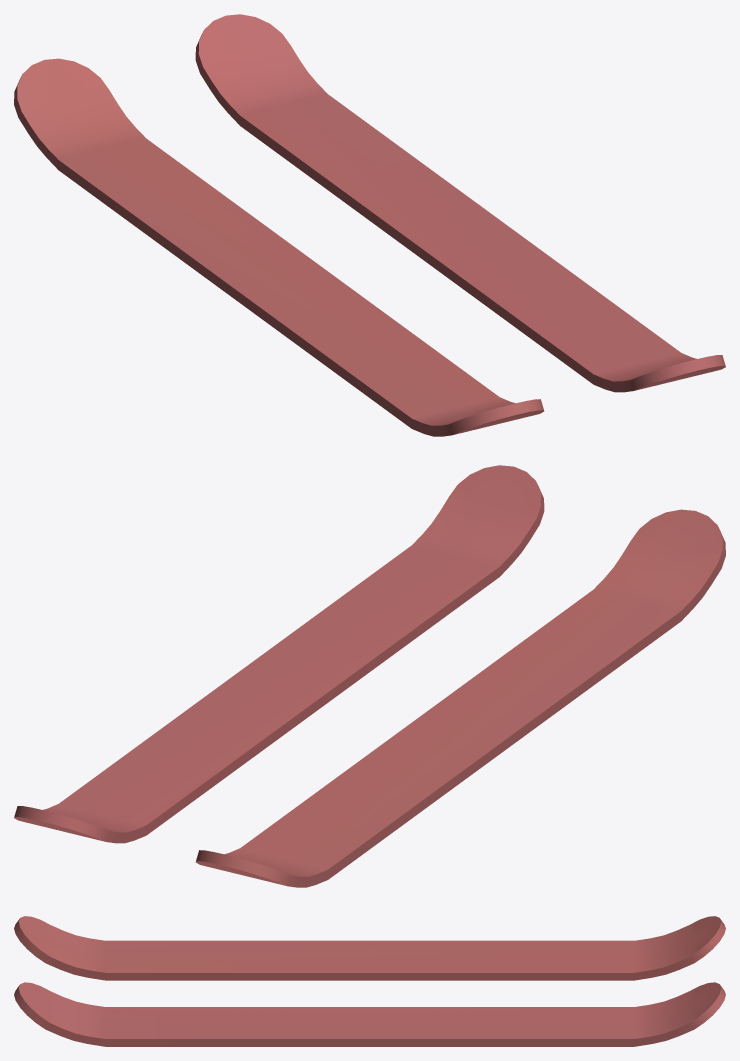
File: ski.fbx
The picture shows the model from 3 angles, top to bottom: view 1: azimuth 30°, elevation 25°; view 2: azimuth 150°, elevation 25°; view 3: azimuth 270°, elevation 25°; orthographic projection. The views are drawn at different scales.
Parts seen in each view (by area): view 1: polySurface307, polySurface308; view 2: polySurface307, polySurface308; view 3: polySurface308, polySurface307.
Boxes of the visible parts, left/top/right/bottom form: polySurface307: left=195, top=14, right=725, bottom=392; polySurface308: left=14, top=58, right=544, bottom=436; polySurface307: left=14, top=465, right=544, bottom=843; polySurface308: left=195, top=509, right=725, bottom=887; polySurface308: left=14, top=916, right=725, bottom=980; polySurface307: left=14, top=982, right=725, bottom=1046.
Size of the model in its own units: 6.13 by 1.24 by 18.77.
